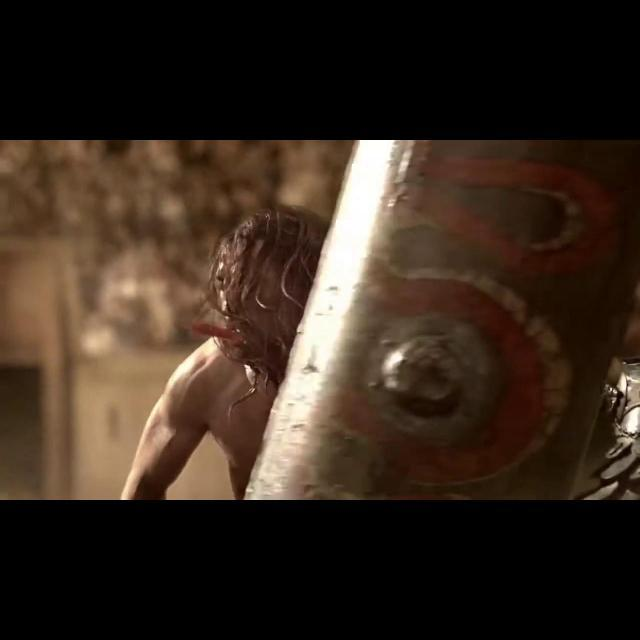blood: (192, 322, 244, 341)
